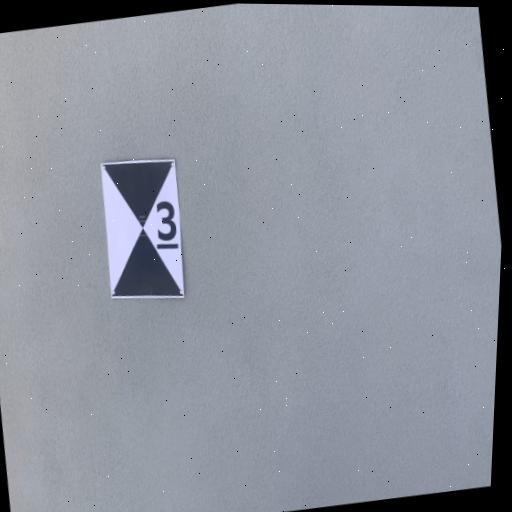target3: (100, 159, 184, 299)
